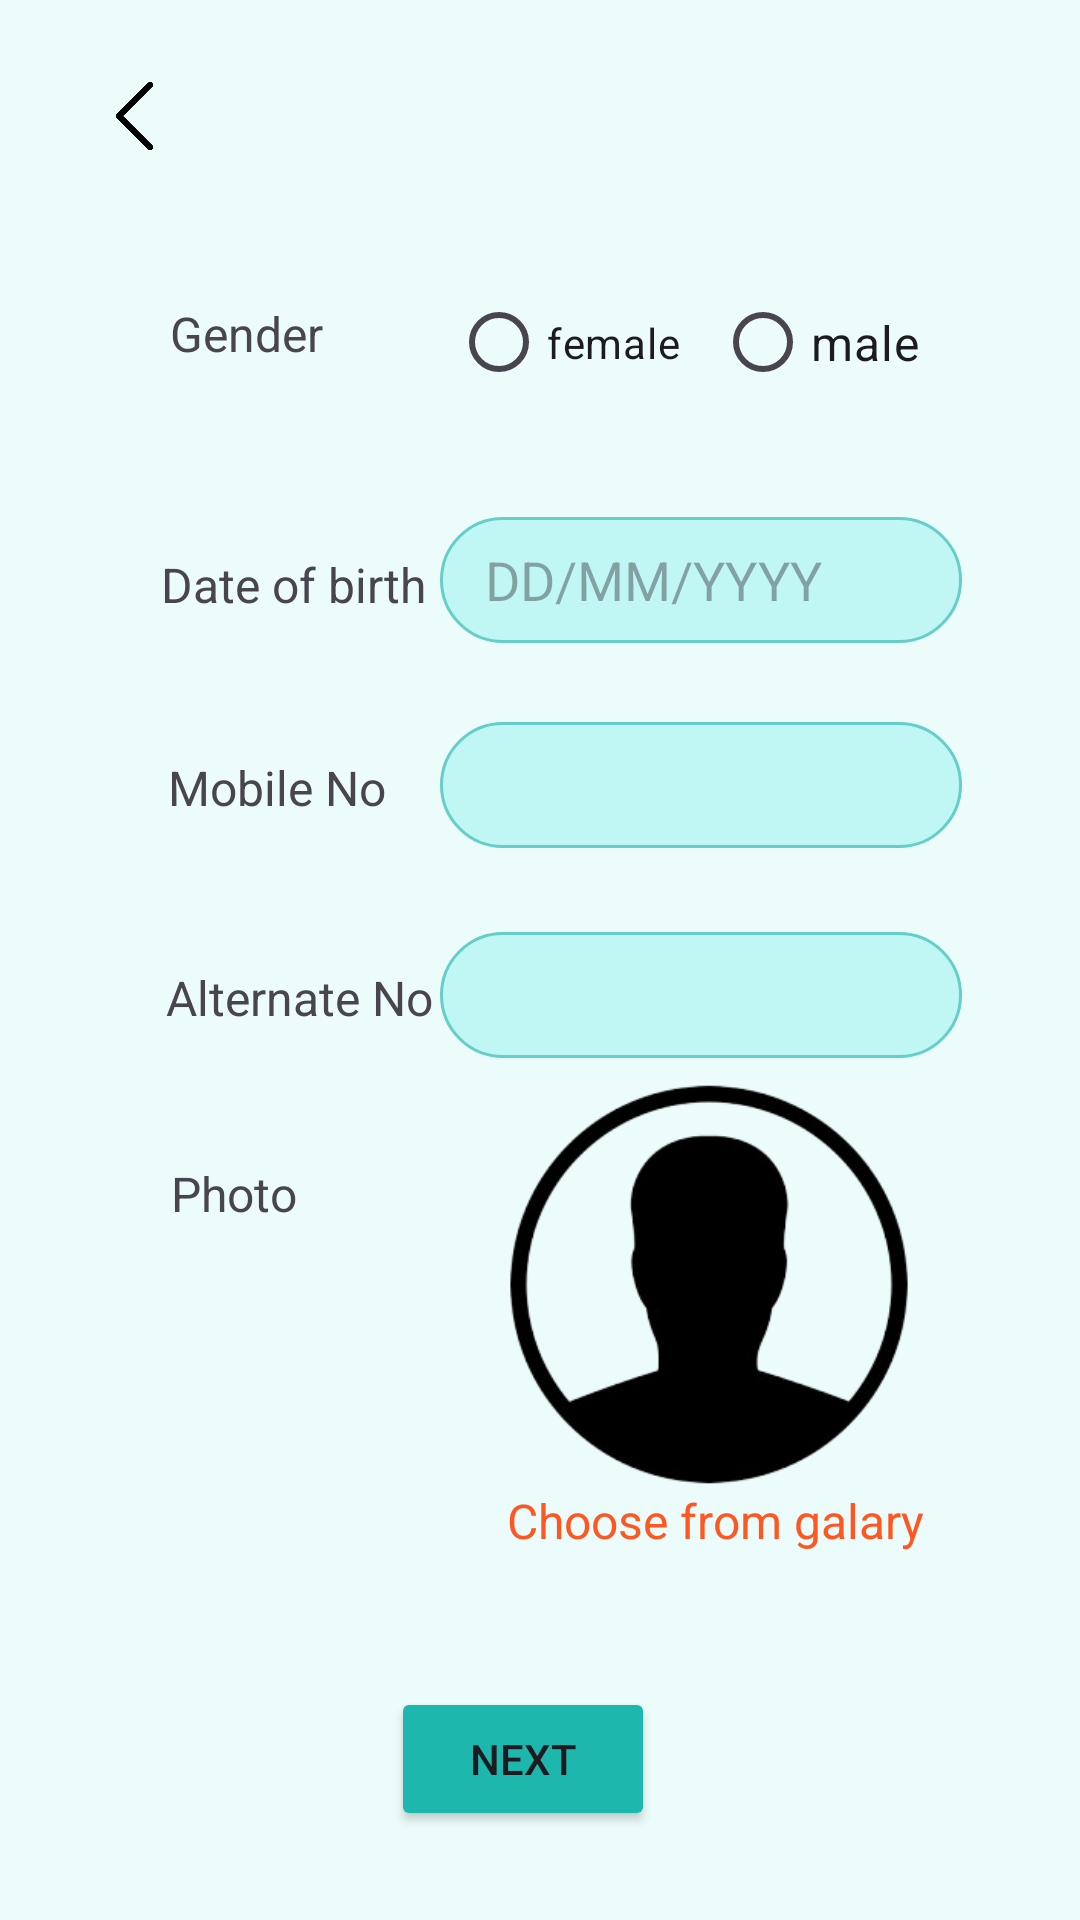

Icons on this 1080px x 1920px Android screen, each with its box as {"left": x1, "top": y1, "right": x2, "bottom": y2}:
back: {"left": 116, "top": 82, "right": 153, "bottom": 150}
